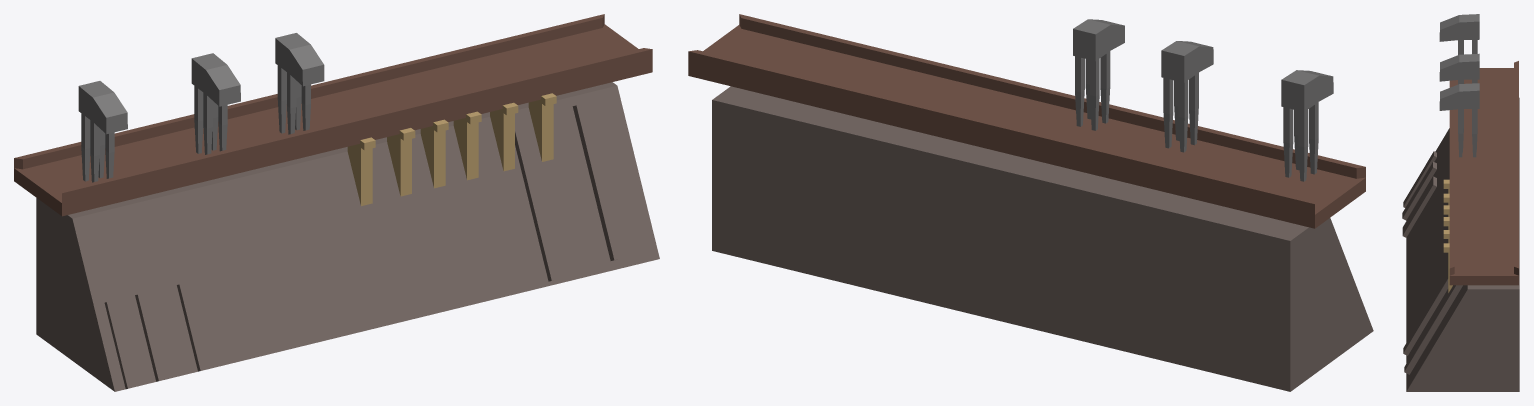
3 views of the same model, side by side, from view 1: azimuth 30°, elevation 25°; view 2: azimuth 150°, elevation 25°; view 3: azimuth 270°, elevation 25° (orthographic). The views are drawn at different scales.
Visible parts, largest first — view 1: Cube; view 2: Cube; view 3: Cube.
Part boxes in pixels (x1=…): Cube: x1=14, y1=14, x2=659, y2=391; Cube: x1=688, y1=14, x2=1373, y2=391; Cube: x1=1402, y1=14, x2=1519, y2=391.
Size of the model in its own units: 2200 by 944 by 524.
